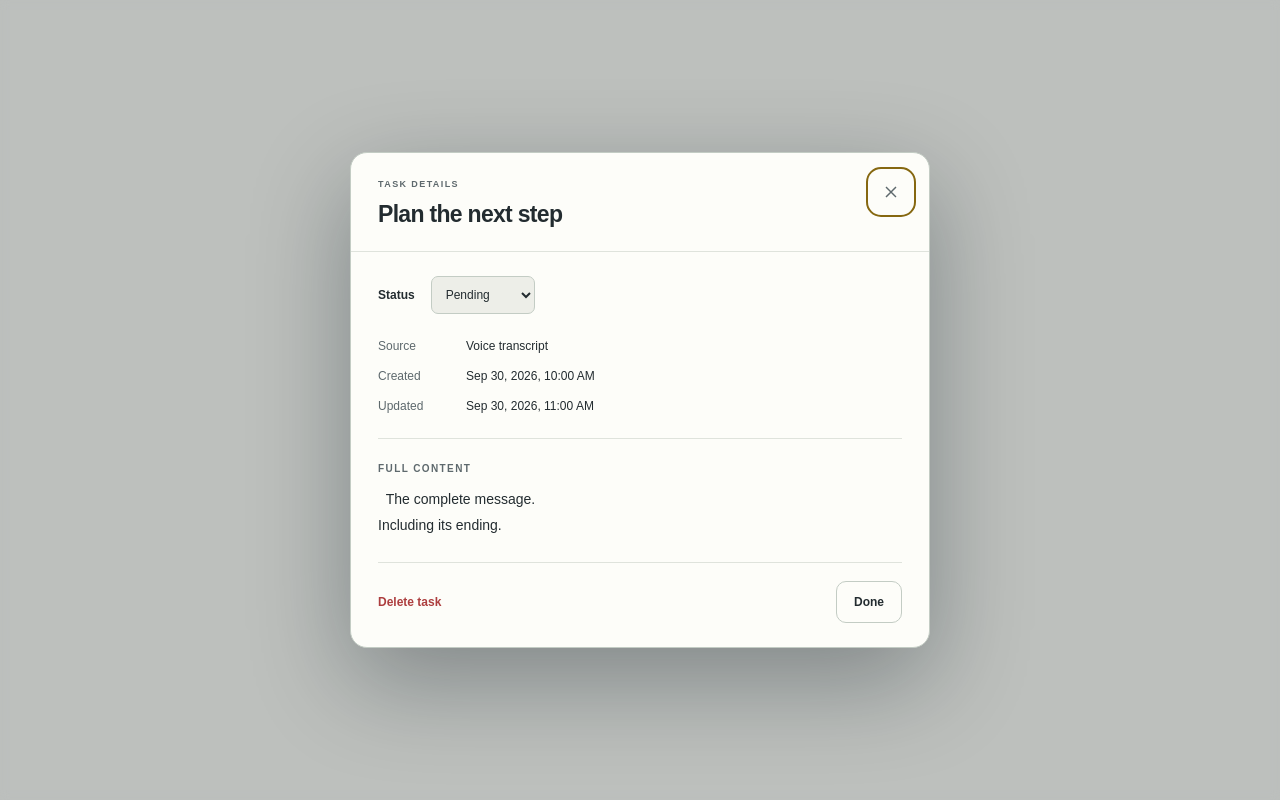
Scenario: task details dialog › reports a failed change and renders the authoritative unchanged status
Step 1. Select "Completed" in the dropdown → (483, 295), box [431, 276, 535, 314]
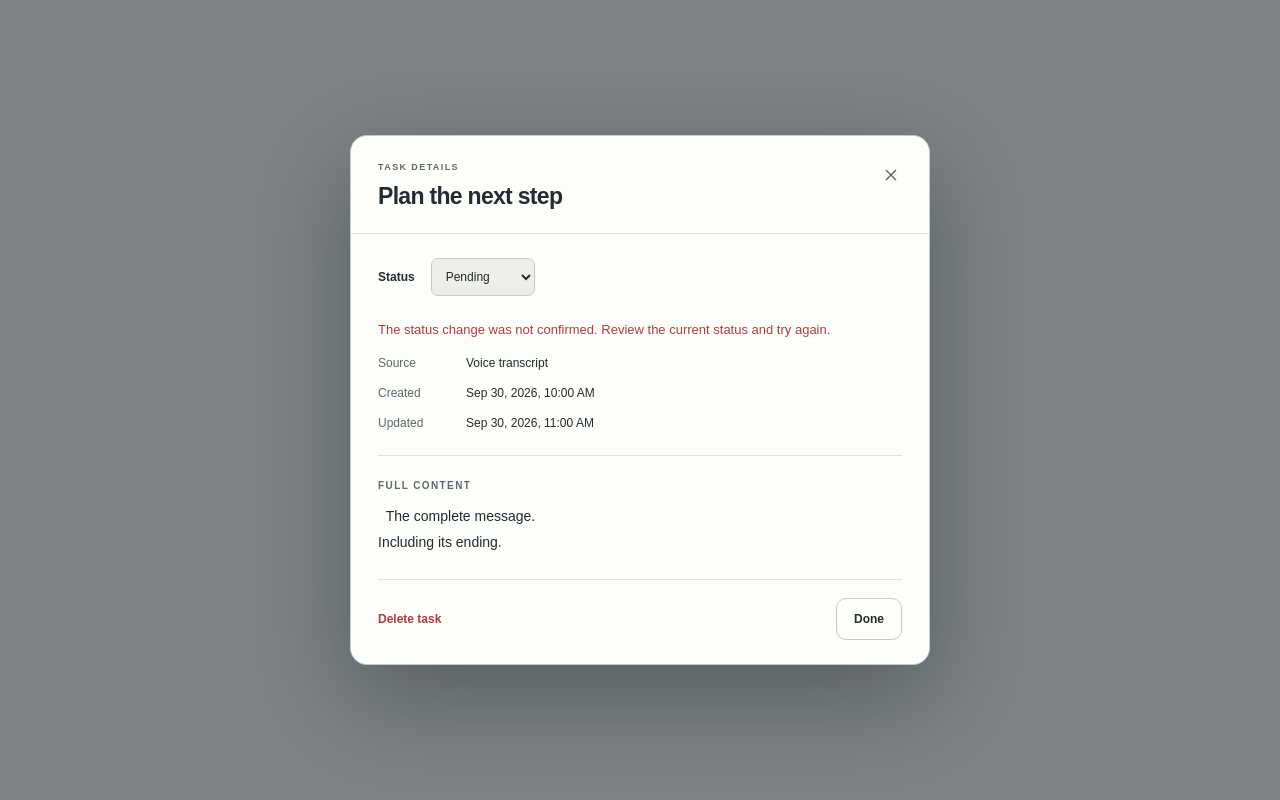
Check: the message shows "status change was not confirmed", box [378, 322, 830, 337]
